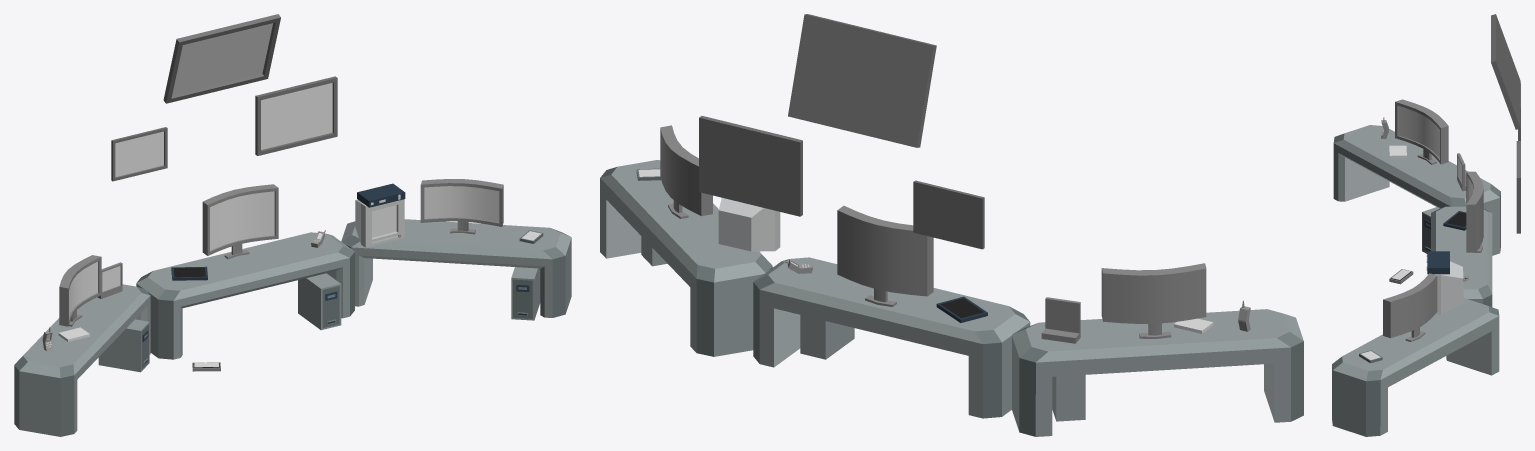
The model's file is Technology-Room-Computer-Table.fbx.
The picture shows the model from 3 angles, left to right: view 1: azimuth 30°, elevation 25°; view 2: azimuth 150°, elevation 25°; view 3: azimuth 270°, elevation 25°; orthographic projection. The views are drawn at different scales.
Parts seen in each view (by area): view 1: Computer-Table-4, Computer-Table-5, Computer-Table-3, Computer-Screen-8, Computer-Screen-9, Computer-Screen-5, Computer-Screen-6, Computer-Screen-7, Computer-Screen-4, Computer-Case-2, Computer-Screen-10, Computer-Case-3 (+3 smaller); view 2: Computer-Table-3, Computer-Table-4, Computer-Table-5, Computer-Screen-8, Computer-Screen-9, Computer-Screen-5, Computer-Screen-4, Computer-Screen-7, Computer-Screen-6, Computer-Screen-10, Computer-Case-2, Computer-Screen-11 (+2 smaller); view 3: Computer-Table-5, Computer-Table-3, Computer-Table-4, Computer-Screen-6, Computer-Screen-4, Computer-Screen-8, Computer-Screen-5, Computer-Screen-10, Computer-Part, Computer-Screen-9, Computer-Case-3, Tablet-Computer-2 (+4 smaller).
Boxes of the visible parts, x1,y1,x2,y2 form: Computer-Table-4: (136,232,354,359); Computer-Table-5: (341,219,571,317); Computer-Table-3: (14,284,150,436); Computer-Screen-8: (163,14,280,103); Computer-Screen-9: (255,76,337,155); Computer-Screen-5: (202,184,278,259); Computer-Screen-6: (420,179,503,234); Computer-Screen-7: (111,127,167,181); Computer-Screen-4: (59,255,101,326); Computer-Case-2: (298,273,341,330); Computer-Screen-10: (355,199,404,247); Computer-Case-3: (98,319,149,372); Computer-Table-3: (1012,309,1303,436); Computer-Table-4: (753,257,1030,418); Computer-Table-5: (600,160,772,356); Computer-Screen-8: (788,14,936,147); Computer-Screen-9: (699,116,802,216); Computer-Screen-5: (837,205,933,306); Computer-Screen-4: (1101,263,1206,338); Computer-Screen-7: (913,180,984,249); Computer-Screen-6: (660,125,712,218); Computer-Screen-10: (718,197,780,251); Computer-Case-2: (800,315,854,359); Computer-Screen-11: (1041,297,1080,343); Computer-Table-5: (1332,298,1499,436); Computer-Table-3: (1333,125,1500,255); Computer-Table-4: (1431,206,1492,306); Computer-Screen-6: (1383,273,1437,341); Computer-Screen-4: (1395,99,1448,164); Computer-Screen-8: (1491,14,1520,129); Computer-Screen-5: (1466,171,1483,252); Computer-Screen-10: (1434,261,1463,314); Computer-Part: (1426,251,1449,274); Computer-Screen-9: (1516,141,1520,233); Computer-Case-3: (1422,207,1439,253); Tablet-Computer-2: (1443,211,1466,230).
Size of the model in its own units: 7.6 by 3.79 by 2.38.
